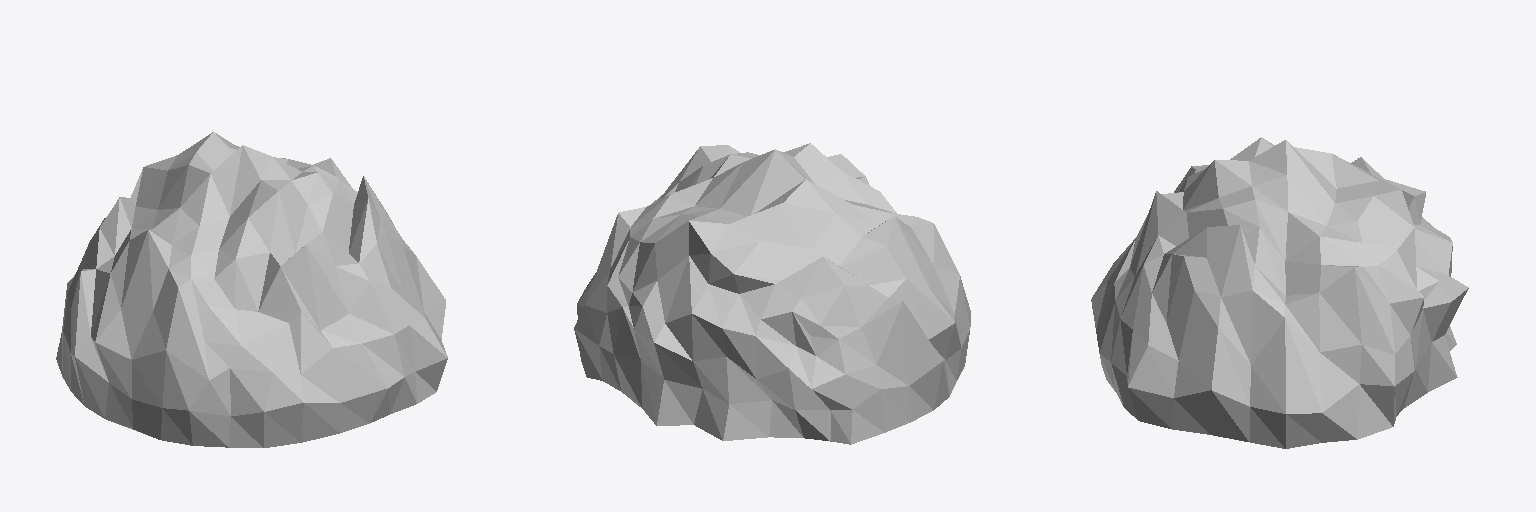
The model's file is boulder.obj.
The picture shows the model from 3 angles: view 1: azimuth 30°, elevation 25°; view 2: azimuth 150°, elevation 25°; view 3: azimuth 270°, elevation 25°; orthographic projection.
Parts seen in each view (by area): view 1: Cube_Cube.001; view 2: Cube_Cube.001; view 3: Cube_Cube.001.
Boxes of the visible parts, x1=… form: Cube_Cube.001: x1=56, y1=132, x2=447, y2=447; Cube_Cube.001: x1=574, y1=143, x2=970, y2=444; Cube_Cube.001: x1=1091, y1=137, x2=1468, y2=448.
Size of the model in its own units: 1.93 by 1.15 by 1.77.